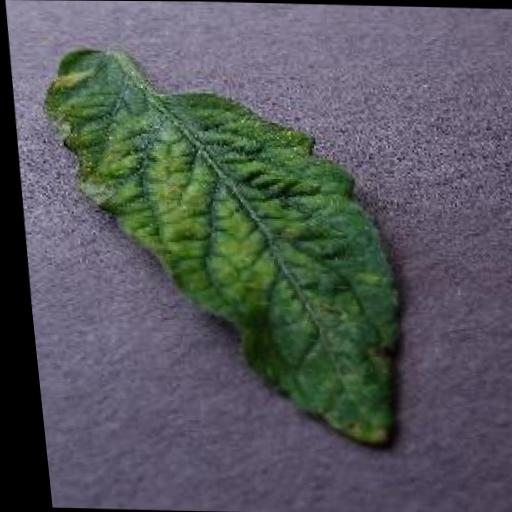Mosaic Virus: (27, 46, 412, 448)
